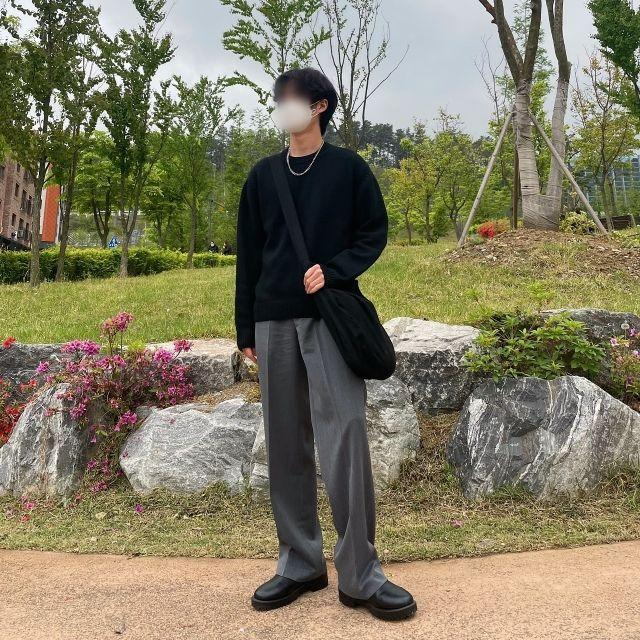slacks: (256, 311, 385, 598)
sweater: (234, 141, 388, 353)
